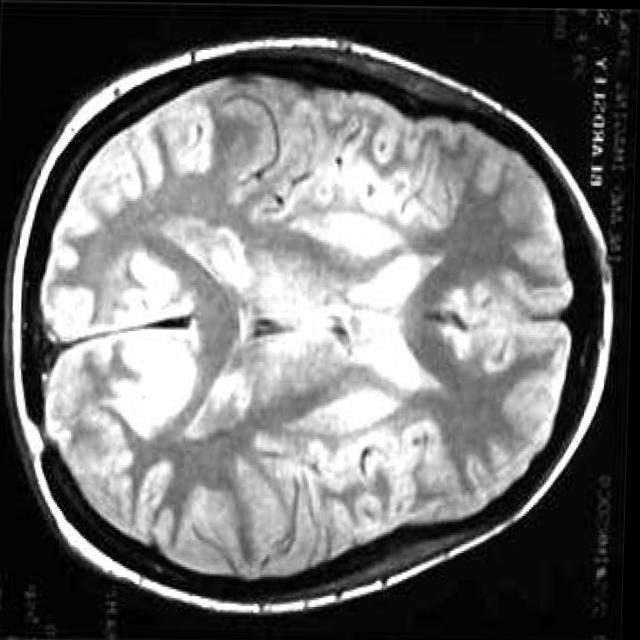Tumor: (114, 325, 198, 438)
